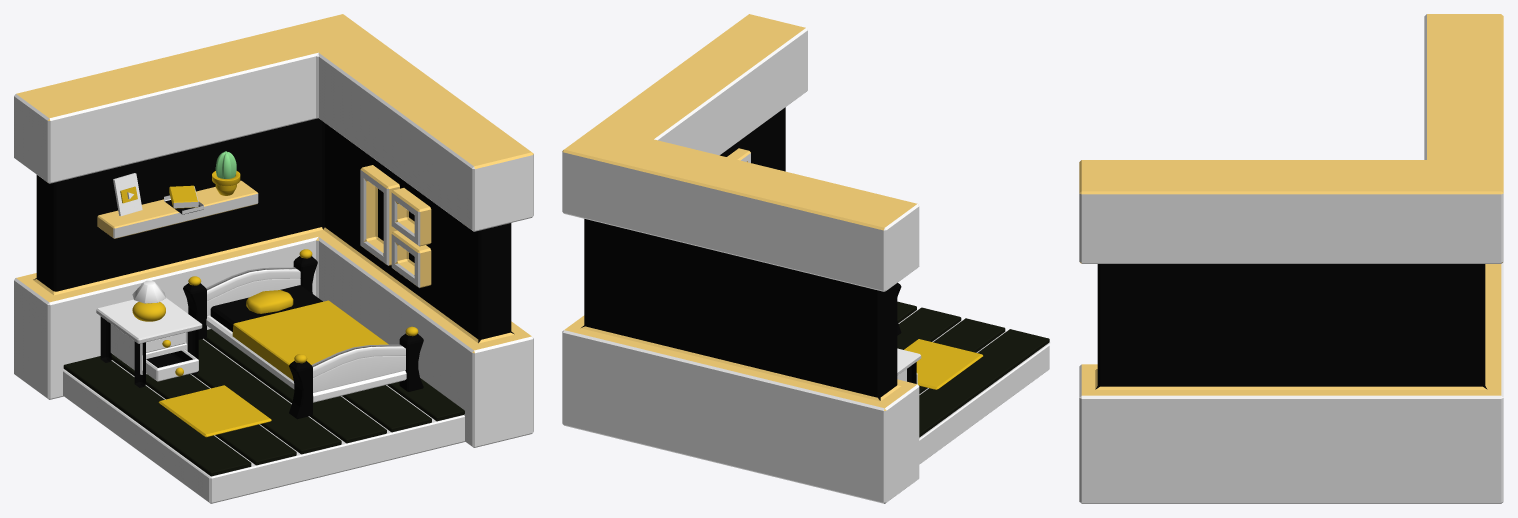
The model's file is room.glb.
The picture shows the model from 3 angles, left to right: view 1: azimuth 30°, elevation 25°; view 2: azimuth 150°, elevation 25°; view 3: azimuth 270°, elevation 25°; orthographic projection. The views are drawn at different scales.
Visible parts, largest first — view 1: Cube, Plane.004, Plane.003, Plane.010, Cube.001, Plane.007, Plane.012, Plane.008, Cube.003, Plane.014, Plane.006, Plane.009 (+6 smaller); view 2: Cube, Plane.004, Plane.003, Plane.014; view 3: Cube.
Boxes of the visible parts, x1,y1,x2,y2 form: Cube: (14, 14, 533, 447); Plane.004: (63, 329, 464, 476); Plane.003: (63, 370, 464, 503); Plane.010: (232, 300, 388, 380); Cube.001: (360, 165, 431, 287); Plane.007: (206, 267, 405, 392); Plane.012: (96, 298, 202, 381); Plane.008: (183, 256, 423, 419); Cube.003: (97, 180, 258, 238); Plane.014: (158, 385, 271, 437); Plane.006: (206, 315, 406, 402); Plane.009: (210, 285, 322, 331); Cube: (562, 14, 919, 503); Plane.004: (897, 301, 1049, 437); Plane.003: (919, 344, 1049, 464); Plane.014: (904, 339, 982, 389); Cube: (1079, 14, 1503, 503).
Bounding box in the file's own units: 8.16 × 6.64 × 8.16.
